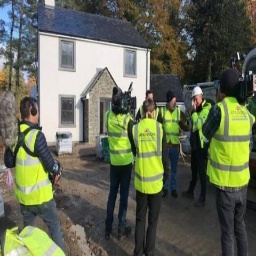helmet: (189, 85, 206, 102)
no-helmet: (217, 66, 243, 101), (19, 98, 41, 118), (112, 84, 126, 115), (142, 98, 156, 120), (166, 90, 177, 110)
person: (204, 71, 256, 256), (6, 94, 60, 242), (131, 97, 163, 251), (107, 88, 131, 245), (158, 89, 187, 199), (186, 86, 212, 199)
vest: (11, 126, 60, 208), (211, 101, 252, 190), (137, 122, 165, 203), (107, 112, 134, 176), (161, 108, 184, 149), (194, 105, 208, 153)
